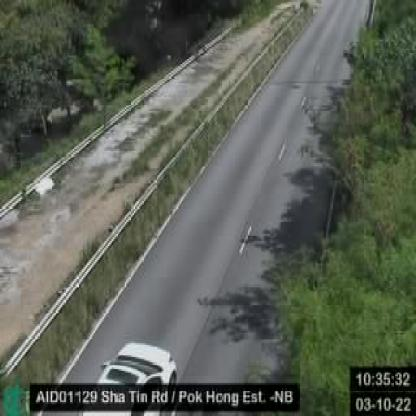Car: (78, 338, 177, 413)
